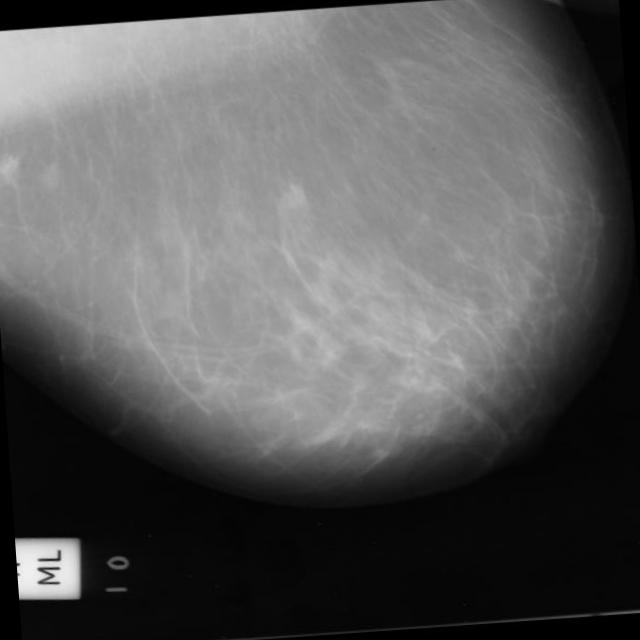MISC: (0, 148, 26, 186)
